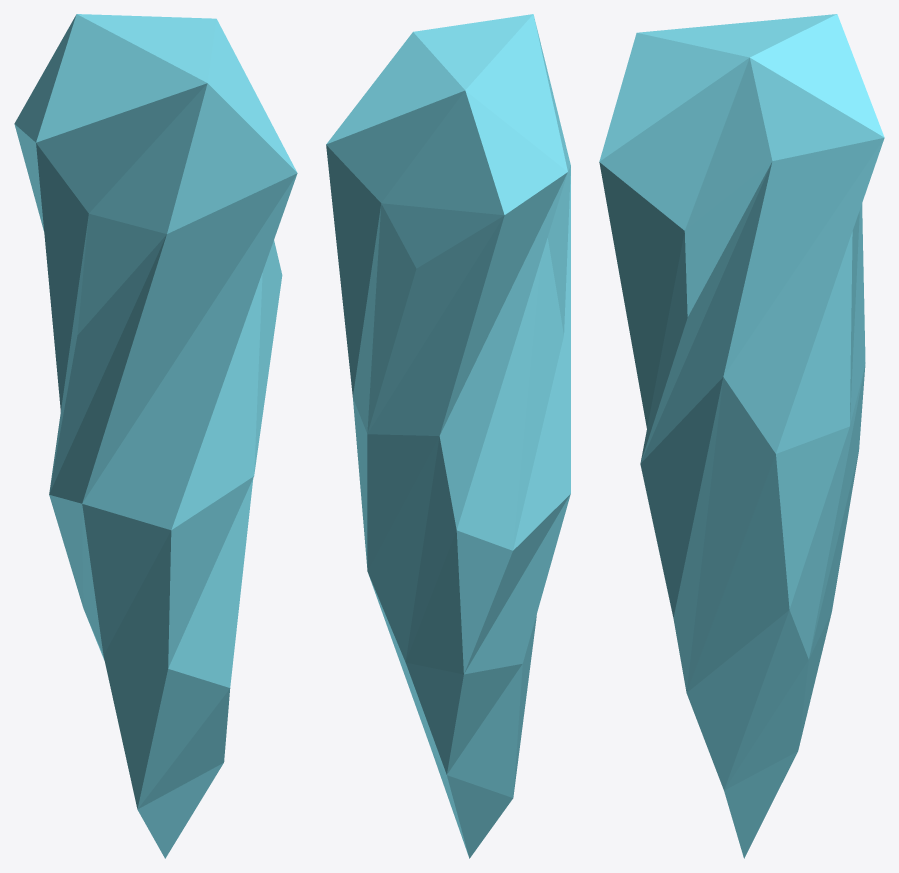
The model's file is flipper2.FBX.
3 views of the same model, side by side, from view 1: azimuth 30°, elevation 25°; view 2: azimuth 150°, elevation 25°; view 3: azimuth 270°, elevation 25° (orthographic).
Visible parts, largest first — view 1: GeoSphere004; view 2: GeoSphere004; view 3: GeoSphere004.
Boxes of the visible parts, x1,y1,x2,y2 form: GeoSphere004: [14, 14, 297, 858]; GeoSphere004: [326, 14, 570, 858]; GeoSphere004: [599, 14, 884, 858].
Size of the model in its own units: 18.19 by 66.24 by 20.69.
